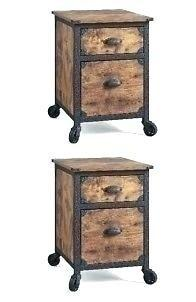cabinet_door: (82, 210, 145, 265), (82, 61, 145, 112), (79, 28, 144, 55), (80, 176, 144, 202)
handle: (98, 35, 125, 48), (102, 77, 124, 92), (101, 183, 125, 196), (101, 226, 123, 240)
